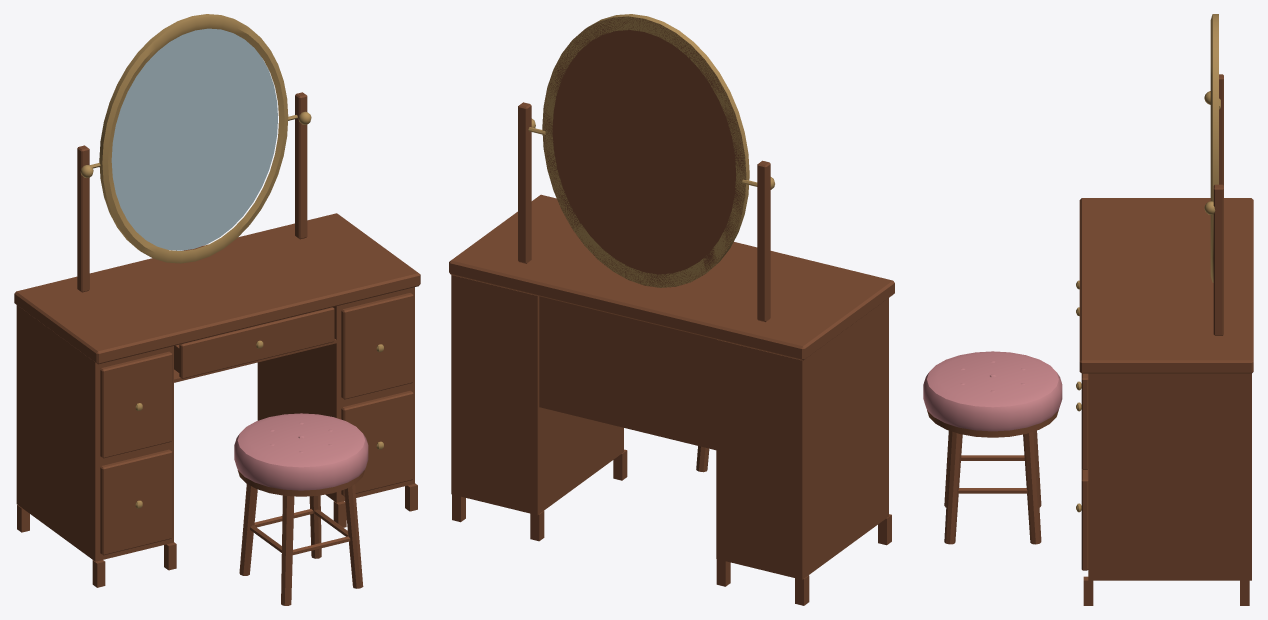
File: vanity.glb
3 views of the same model, side by side, from view 1: azimuth 30°, elevation 25°; view 2: azimuth 150°, elevation 25°; view 3: azimuth 270°, elevation 25° (orthographic). The views are drawn at different scales.
Visible parts, largest first — view 1: vanity, mirror, stool, drawer_2, drawer_4, drawer_3, drawer_1, drawer_5; view 2: vanity, mirror; view 3: vanity, stool, mirror, drawer_5, drawer_4.
Part boxes in pixels (left/top/right/bottom): vanity: left=14, top=92, right=420, bottom=587; mirror: left=91, top=14, right=297, bottom=263; stool: left=234, top=413, right=368, bottom=605; drawer_2: left=100, top=351, right=172, bottom=458; drawer_4: left=341, top=293, right=413, bottom=399; drawer_3: left=100, top=449, right=172, bottom=555; drawer_1: left=174, top=307, right=334, bottom=378; drawer_5: left=341, top=390, right=413, bottom=496; vanity: left=449, top=102, right=894, bottom=605; mirror: left=528, top=14, right=757, bottom=287; vanity: left=1079, top=74, right=1253, bottom=605; stool: left=923, top=351, right=1062, bottom=544; mirror: left=1210, top=14, right=1220, bottom=282; drawer_5: left=1076, top=469, right=1088, bottom=570; drawer_4: left=1076, top=373, right=1088, bottom=469.
Bounding box in the file's own units: 1.12 × 1.6 × 0.95.
